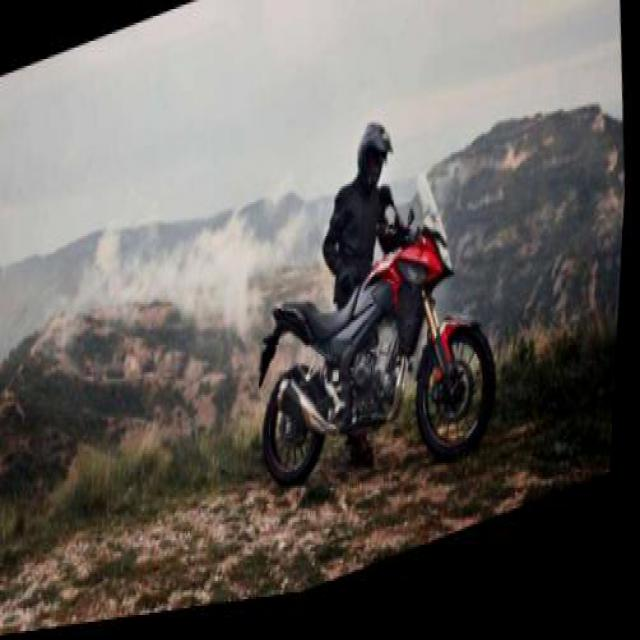CB500X: (247, 157, 517, 549)
